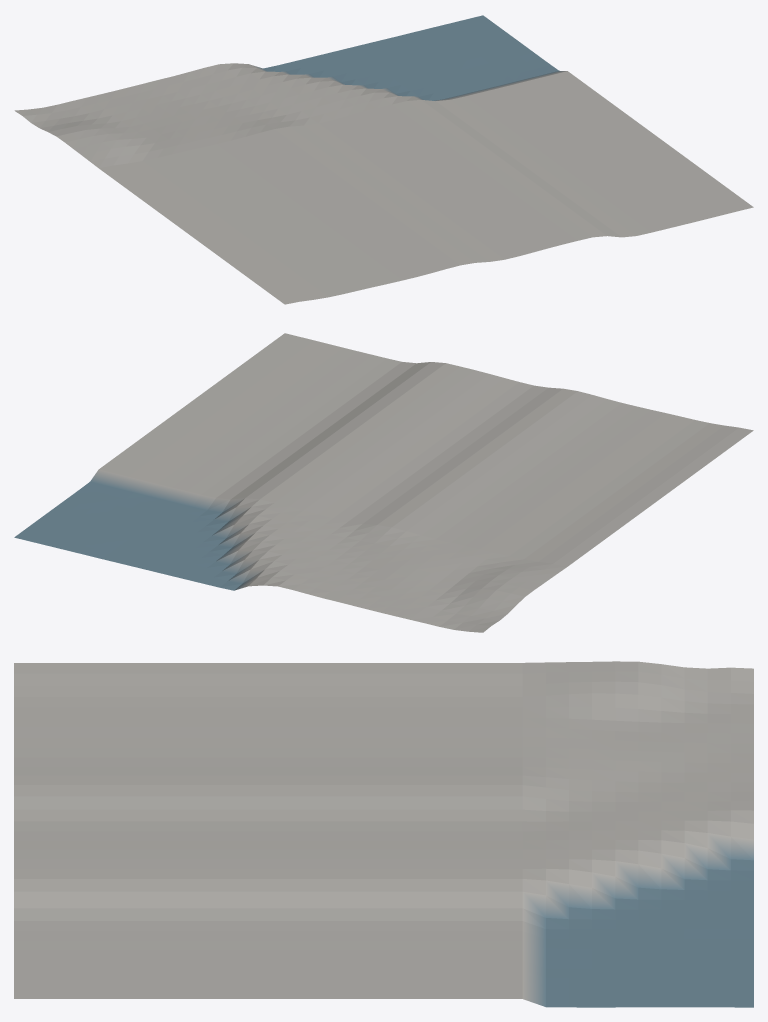
File: tile_4_7.glb
The picture shows the model from 3 angles, top to bottom: view 1: azimuth 30°, elevation 25°; view 2: azimuth 150°, elevation 25°; view 3: azimuth 270°, elevation 25°; orthographic projection. The views are drawn at different scales.
Parts seen in each view (by area): view 1: terrain; view 2: terrain; view 3: terrain.
Boxes of the visible parts, x1=… form: terrain: x1=14, y1=15, x2=753, y2=304; terrain: x1=14, y1=333, x2=753, y2=632; terrain: x1=14, y1=661, x2=753, y2=1007.
Bounding box in the file's own units: 256 × 12.8 × 256.
